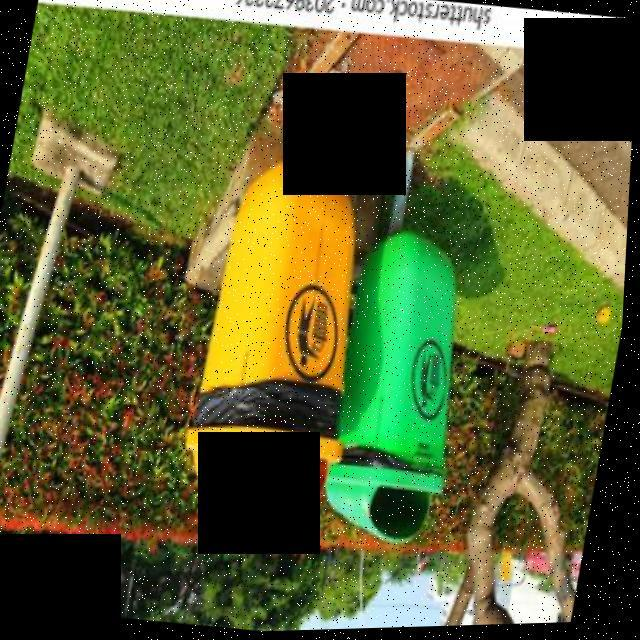bin: (161, 133, 392, 538), (309, 214, 503, 567)
